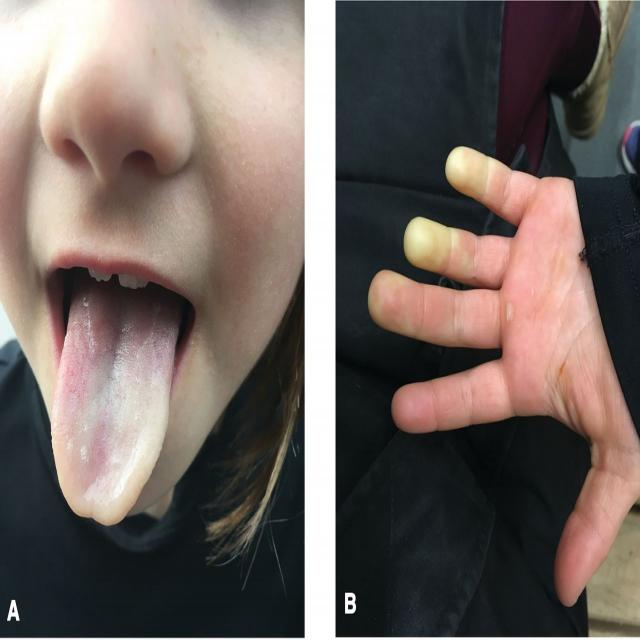raynauds: (440, 132, 502, 215), (404, 208, 472, 283)
